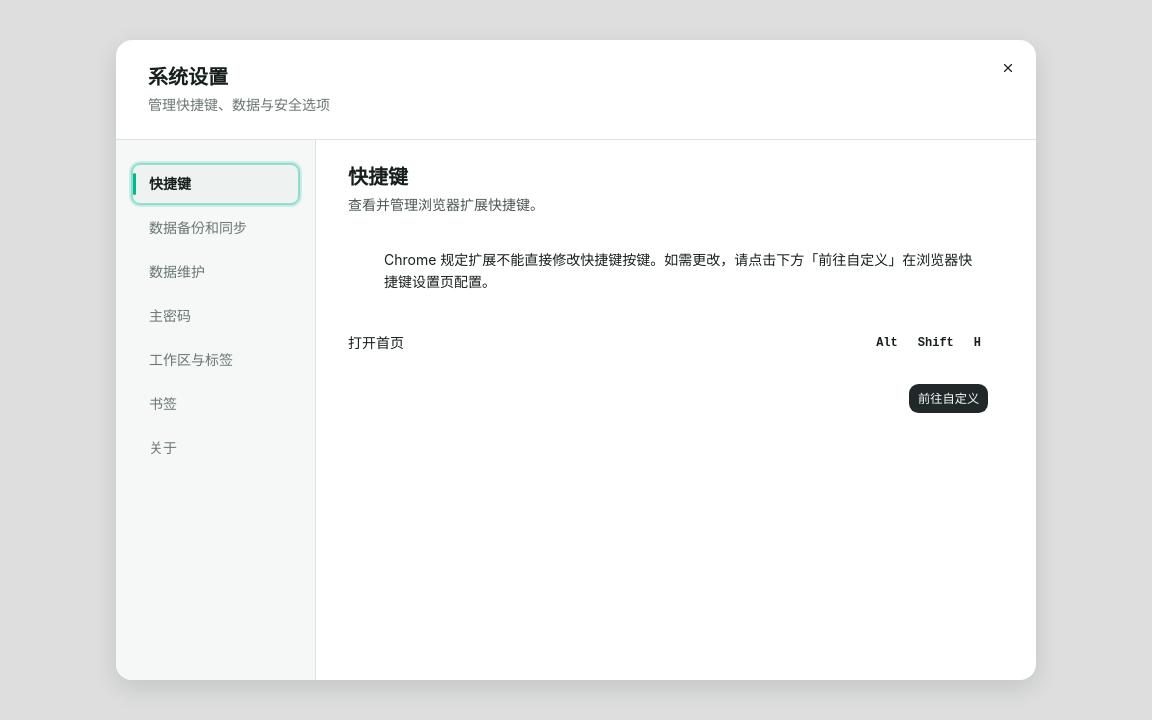
SettingsModal（系统设置中心） › 点击「数据备份和同步」→ 显示备份区（导出/导入）
The image size is (1152, 720).
Expected: the button "前往自定义" is shown, top-left (908, 383), bottom-right (989, 414)
Click the tab "数据备份和同步": (216,228) top-left (132, 208), bottom-right (299, 248)
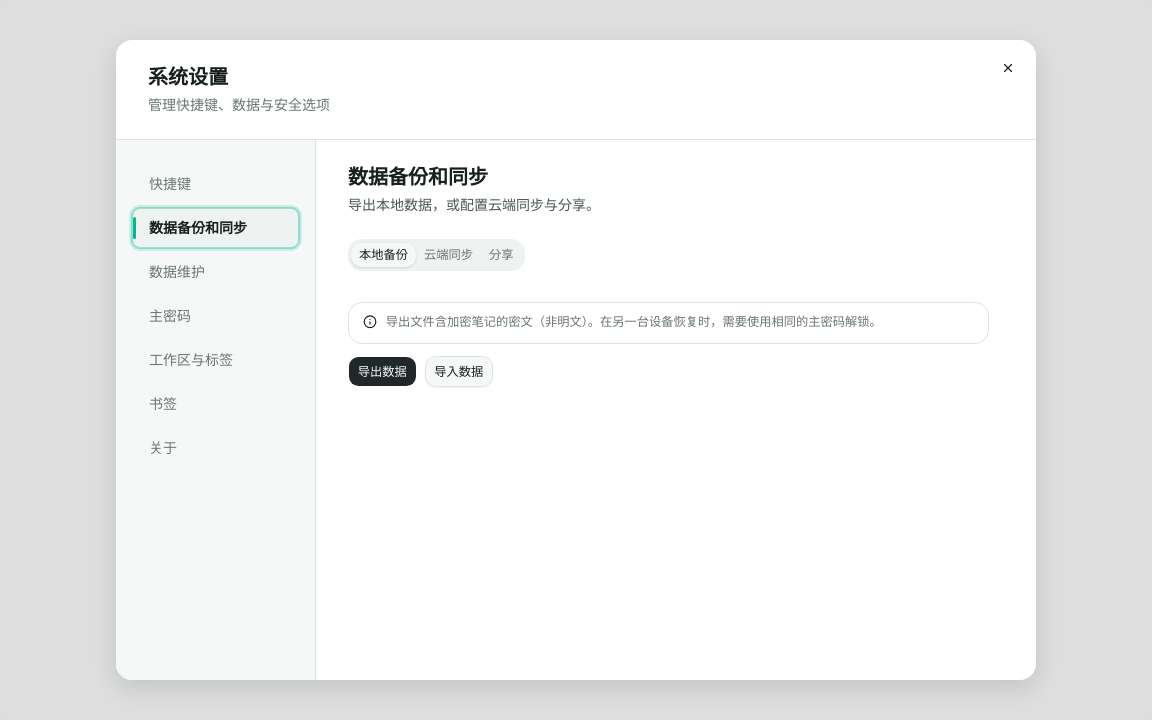
Now the button "导出数据" is shown, box top-left (348, 356), bottom-right (416, 387)
